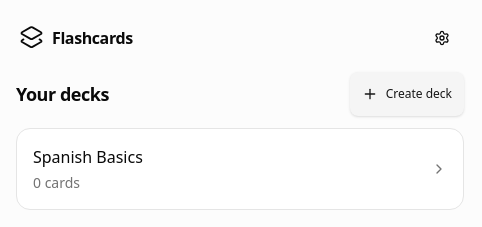
Test case: Home › shows active decks from the backend with mocked card status
The width and height of the screenshot is (482, 227).
Expected: the text "0 cards" is shown, [33, 173, 80, 192]
Click the button named "account menu" at point(442, 38), box [420, 16, 464, 60]
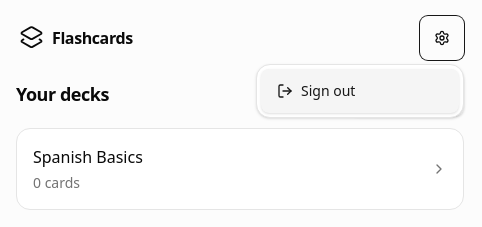
Now the element named "account actions" is shown, box [256, 64, 464, 118]
Now the button "Sign out" is shown, box [261, 69, 459, 113]
